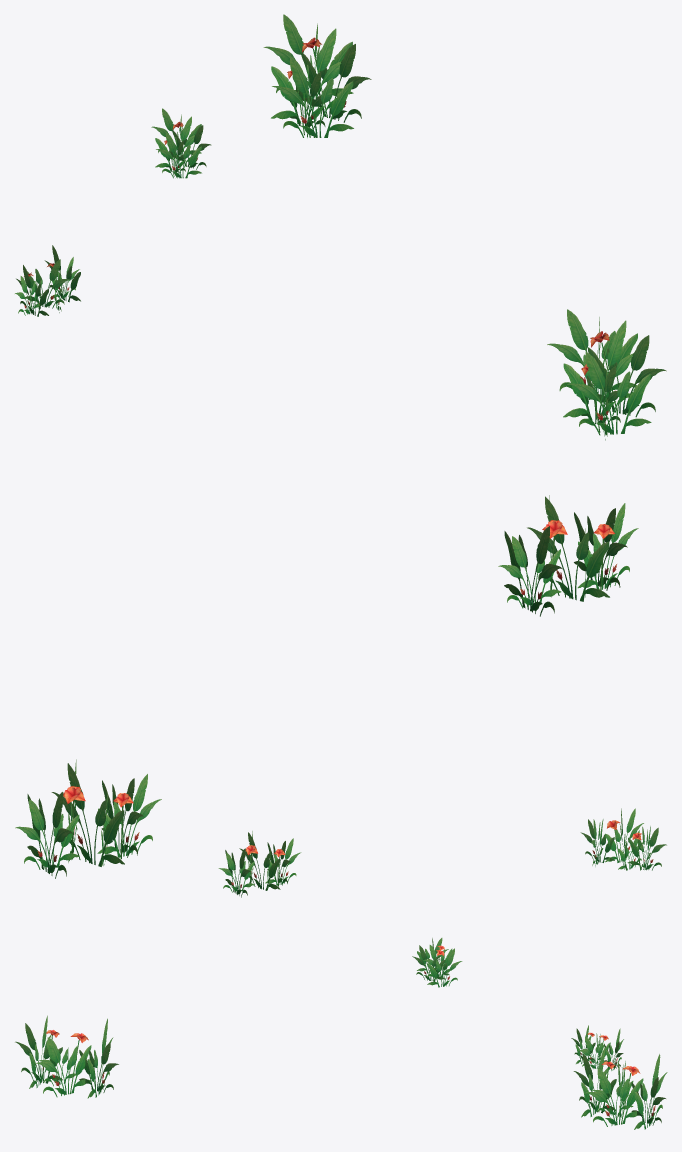
File: area_02_3.FBX
The picture shows the model from 3 angles, top to bottom: view 1: azimuth 30°, elevation 25°; view 2: azimuth 150°, elevation 25°; view 3: azimuth 270°, elevation 25°; orthographic projection. The views are drawn at different scales.
Visible parts, largest first — view 1: area_02_3; view 2: area_02_3; view 3: area_02_3.
Part boxes in pixels (box(x1,y1,x2,y2)): area_02_3: box(15, 14, 666, 440); area_02_3: box(15, 495, 666, 897); area_02_3: box(15, 938, 667, 1129).
Bounding box in the file's own units: 10.39 × 1.94 × 16.76.
